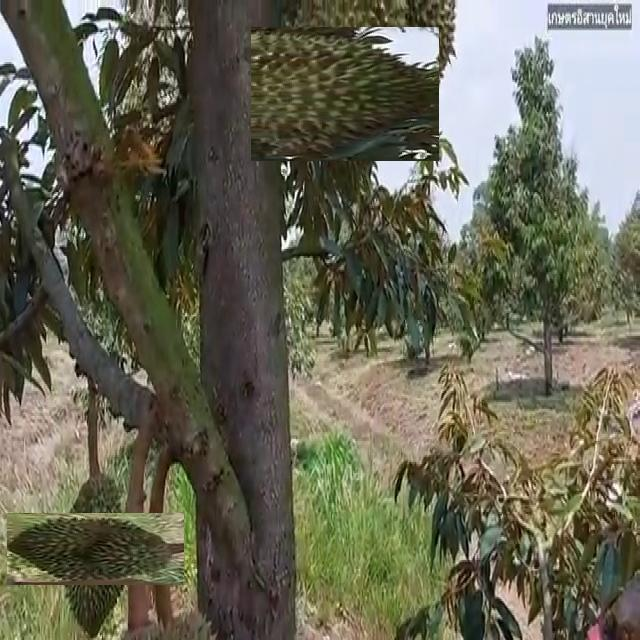durian: (265, 13, 426, 175), (33, 487, 157, 611)
